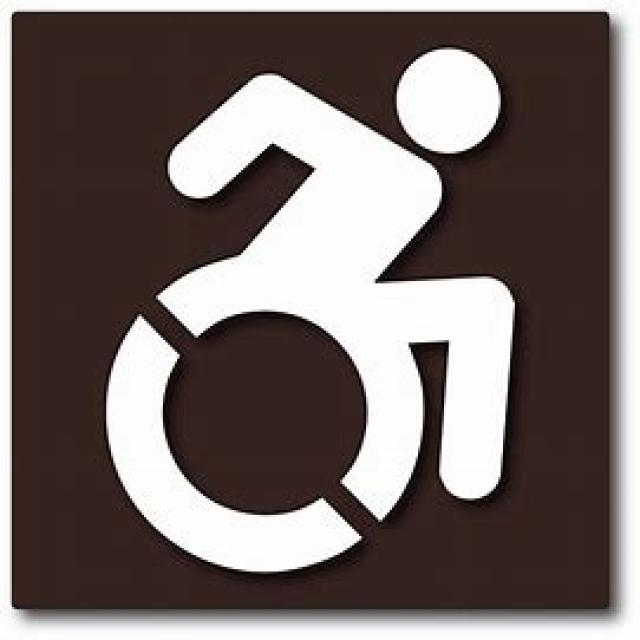car-handicap-placard: (103, 45, 528, 578)
